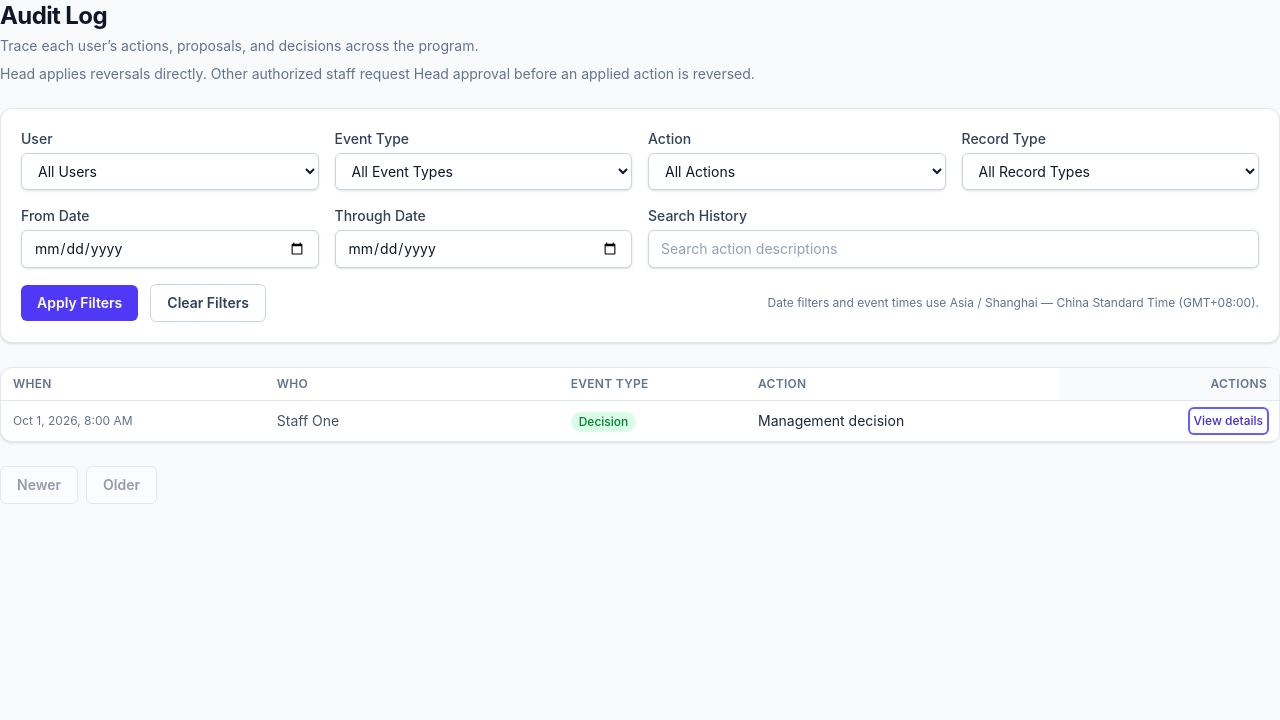
Scenario: renders the audit summary and detail from the observer projection in en
Expected: the text "Management decision" is shown, left=758, top=412, right=904, bottom=429
Click the button "View details" at (1228, 421), box left=1190, top=409, right=1267, bottom=433
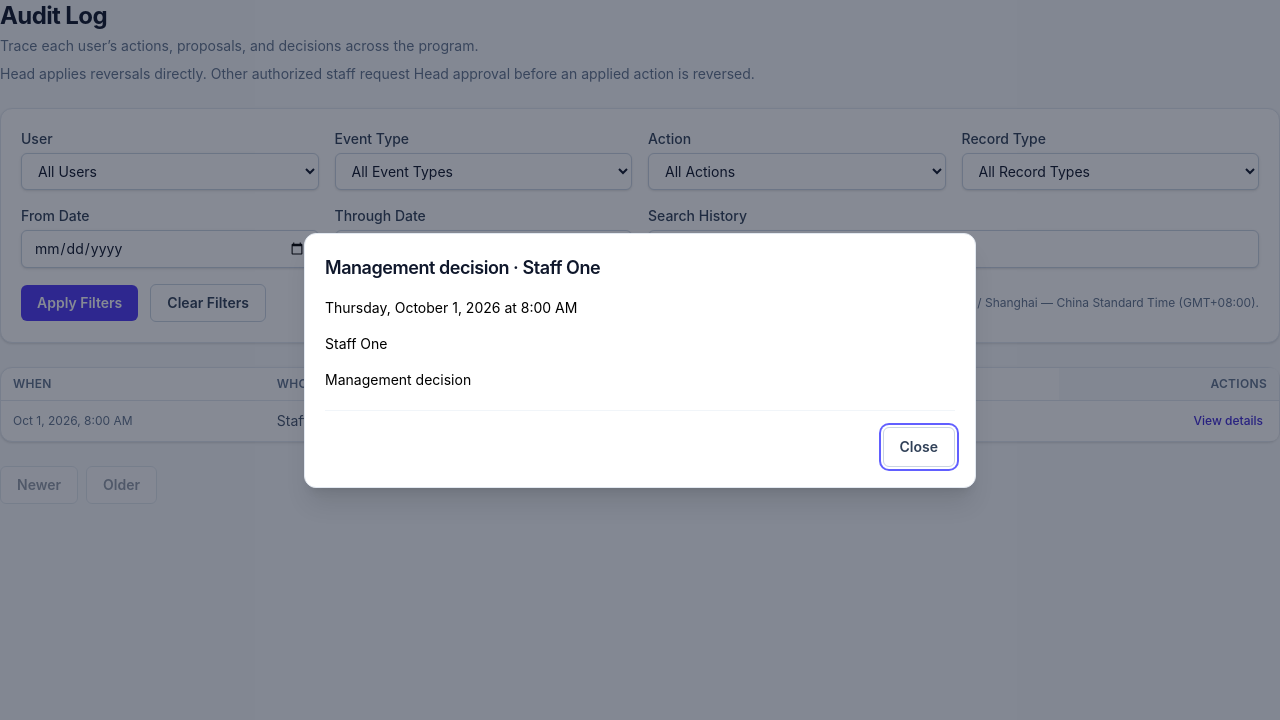
Result: the text "Management decision" is shown at left=325, top=370, right=471, bottom=388
Click the button "Close" at (919, 446), box left=882, top=426, right=955, bottom=466
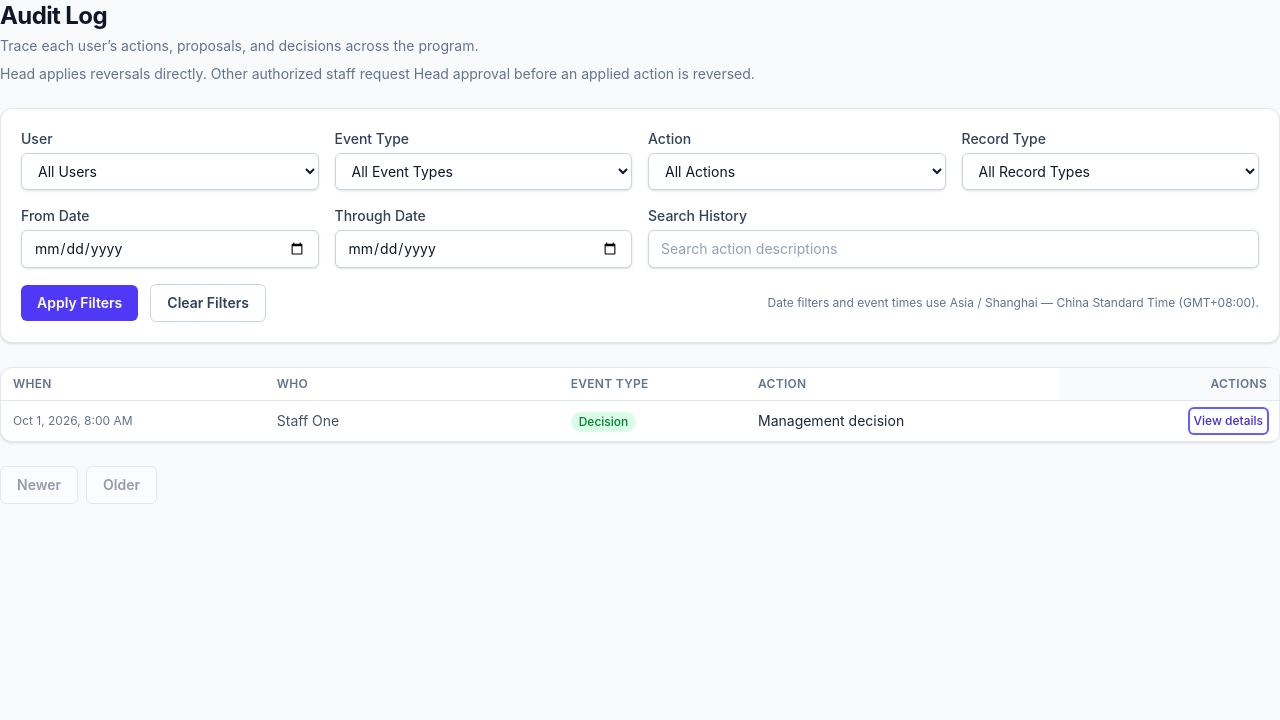
Result: the dialog is gone
